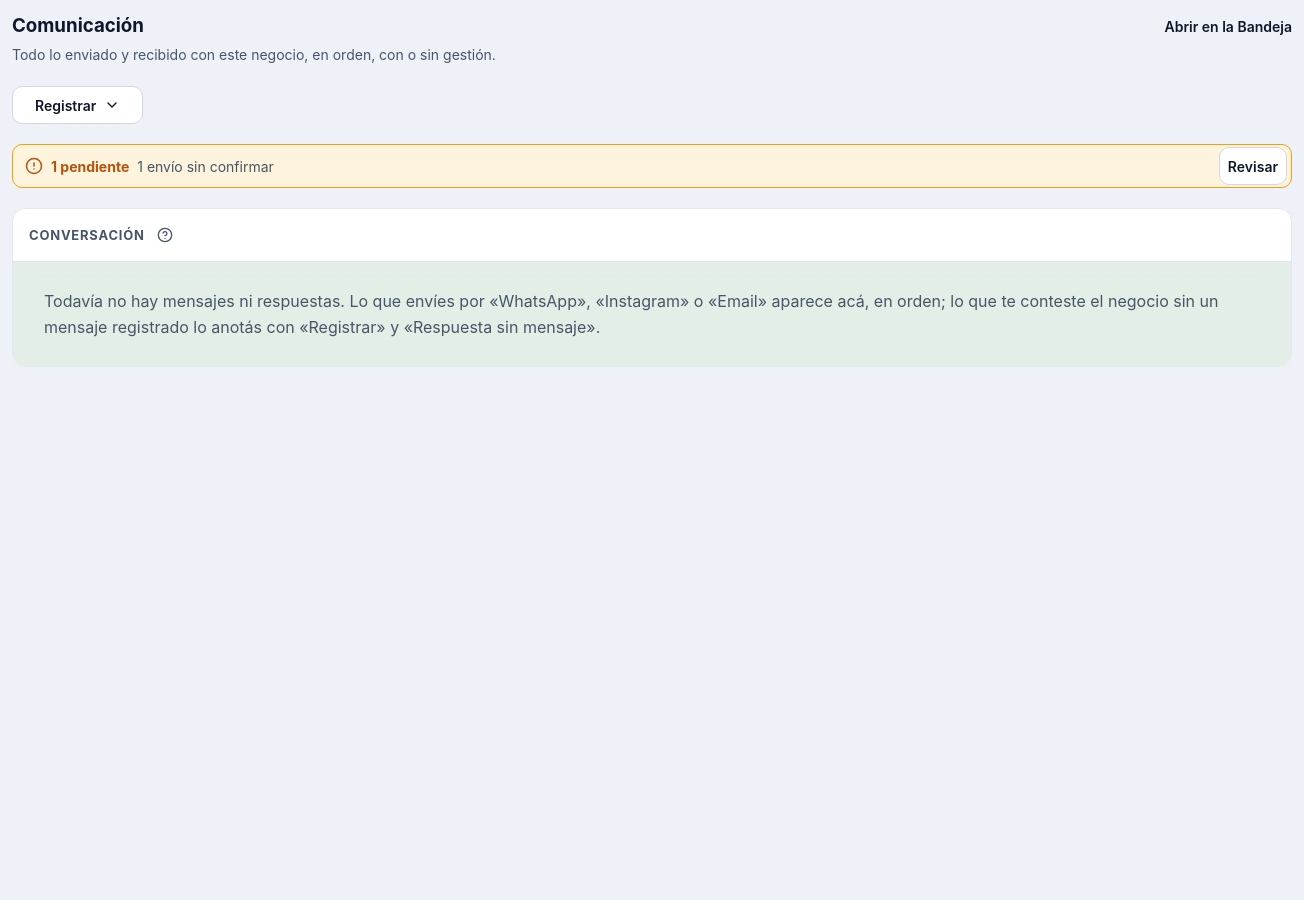
Test: CommunicationPanel sales material (spec 89 §8.2, §8.4) › keeps the record and «Revocar enlace» of an unconfirmed WhatsApp in its «Requiere acción» entry (spec 92: it is not in «Conversación»)
Click the button "Revisar" at (1253, 166), box [1219,148,1287,186]
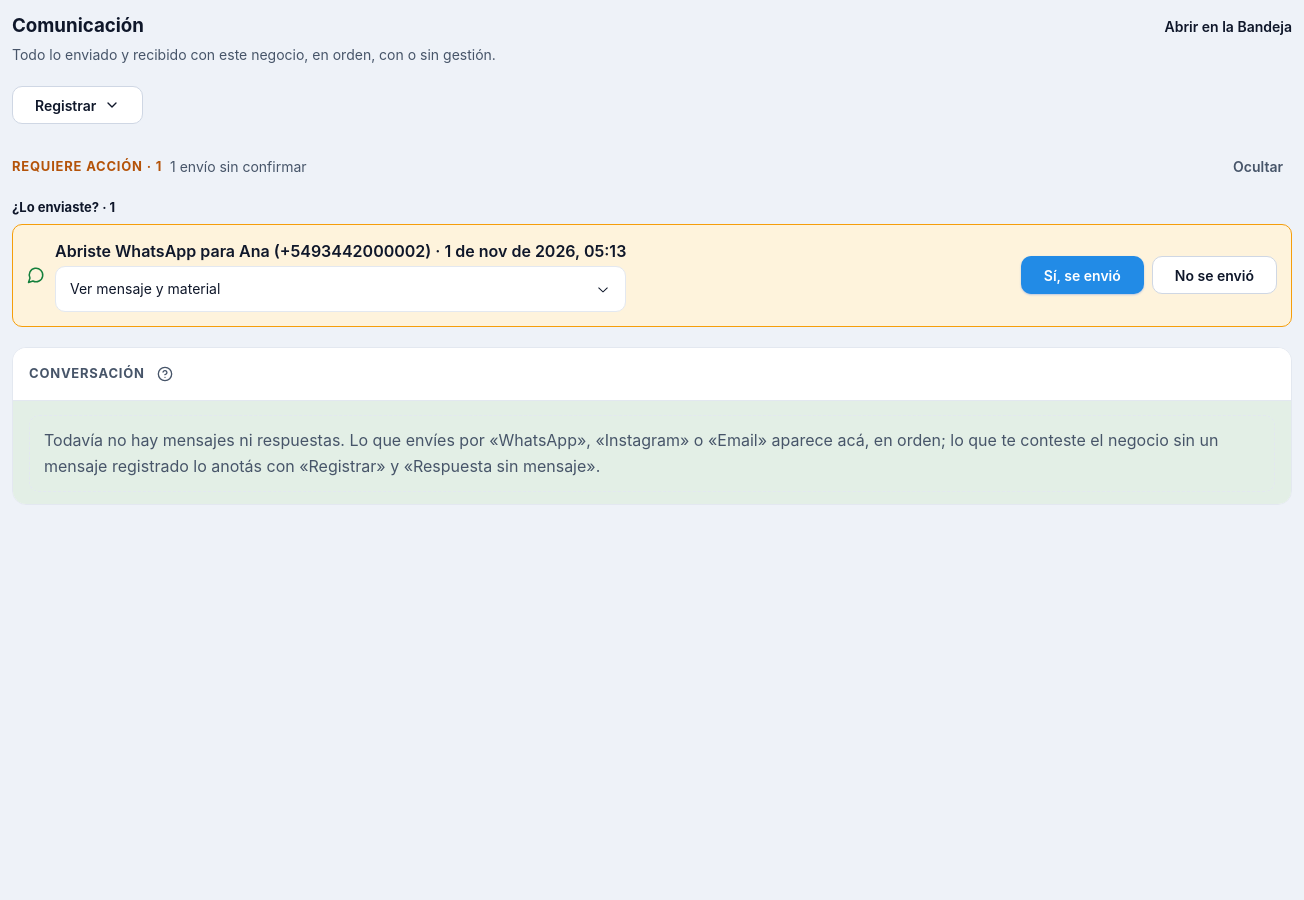
Click the button "Ver mensaje y material" at (145, 289), box [56,267,625,311]
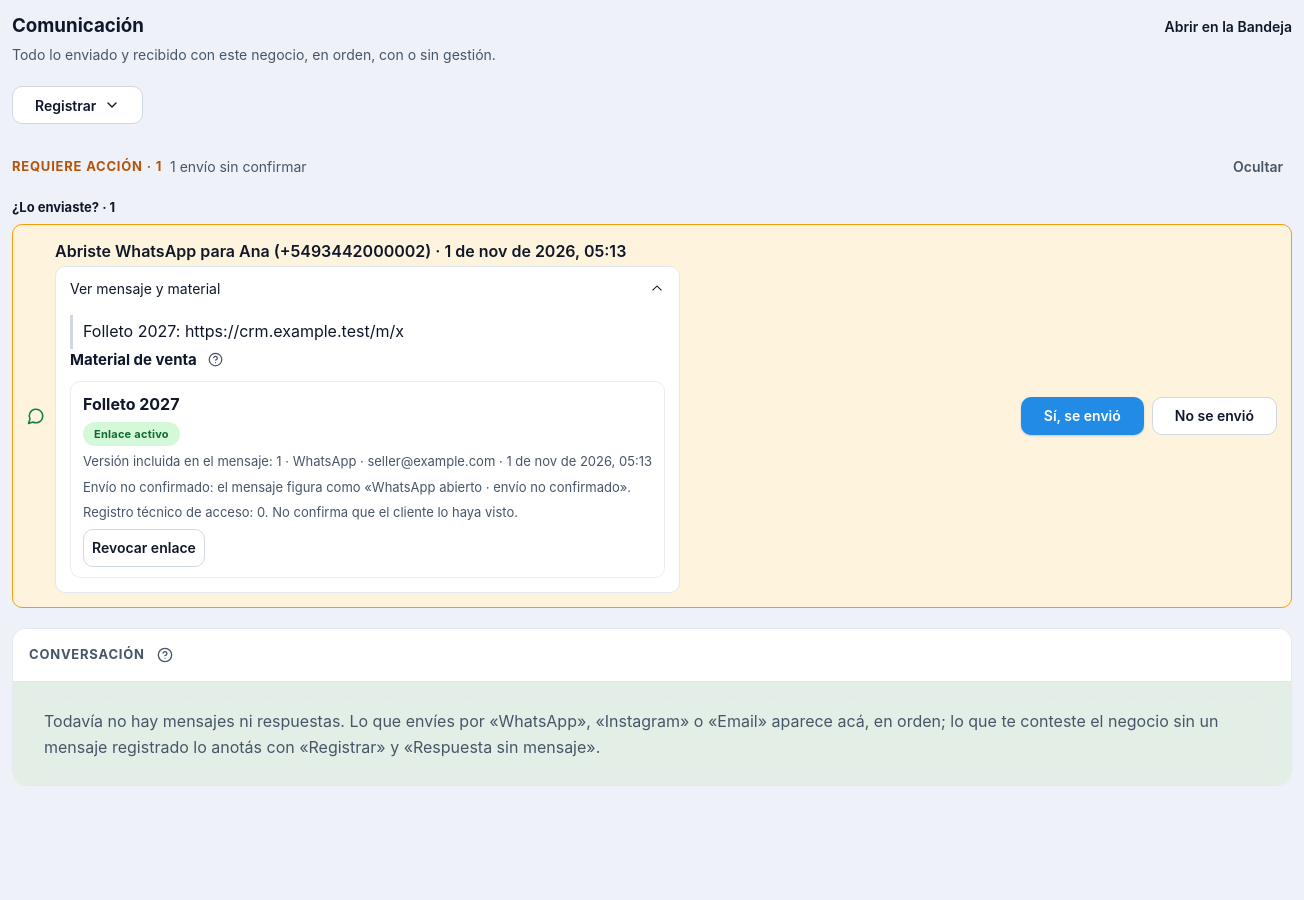
Check: the text "Versión incluida en el mensaje: 1 · WhatsApp" is shown, box [83,452,652,472]
Check: the button "Revocar enlace" is shown, box [83,529,205,567]
